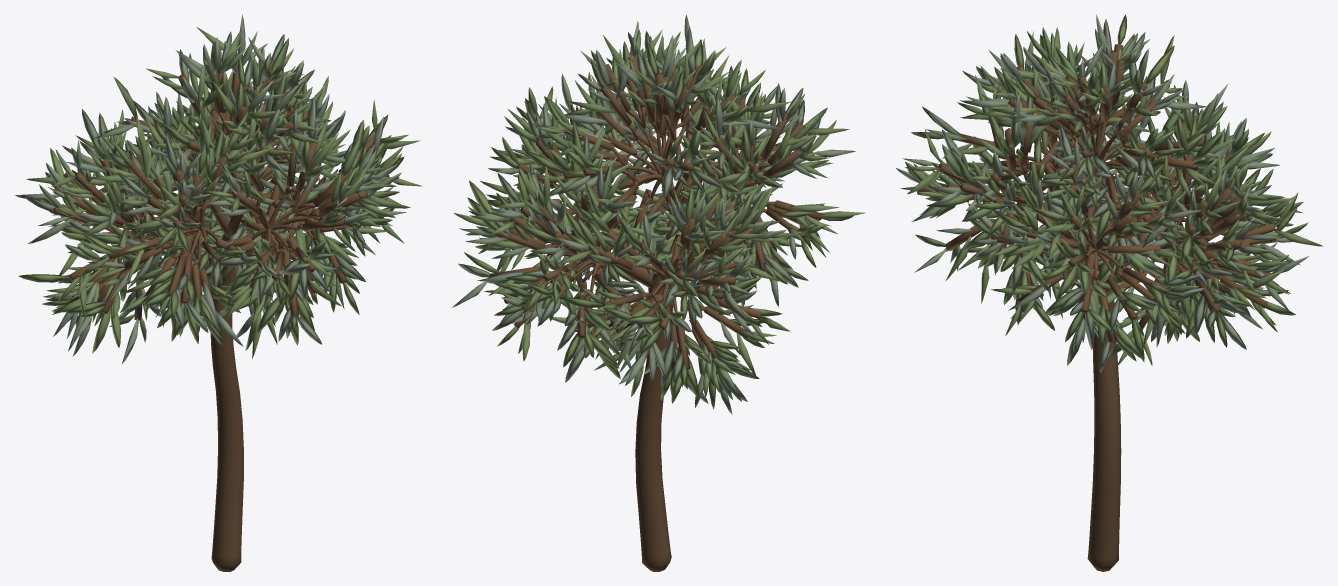
The model's file is potfill_olive.glb.
3 views of the same model, side by side, from view 1: azimuth 30°, elevation 25°; view 2: azimuth 150°, elevation 25°; view 3: azimuth 270°, elevation 25° (orthographic). The views are drawn at different scales.
Parts seen in each view (by area): view 1: Sammel Pflanze, Sammel Holz; view 2: Sammel Pflanze, Sammel Holz; view 3: Sammel Pflanze, Sammel Holz.
Boxes of the visible parts, bbox=[...] form: Sammel Pflanze: bbox=[15, 14, 422, 363]; Sammel Holz: bbox=[53, 54, 389, 571]; Sammel Pflanze: bbox=[451, 14, 865, 414]; Sammel Holz: bbox=[489, 56, 822, 571]; Sammel Pflanze: bbox=[896, 14, 1323, 373]; Sammel Holz: bbox=[917, 44, 1276, 571].
Size of the model in its own units: 0.7221 by 1.08 by 0.7632.
